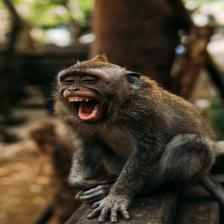monkey: (43, 24, 224, 222)
